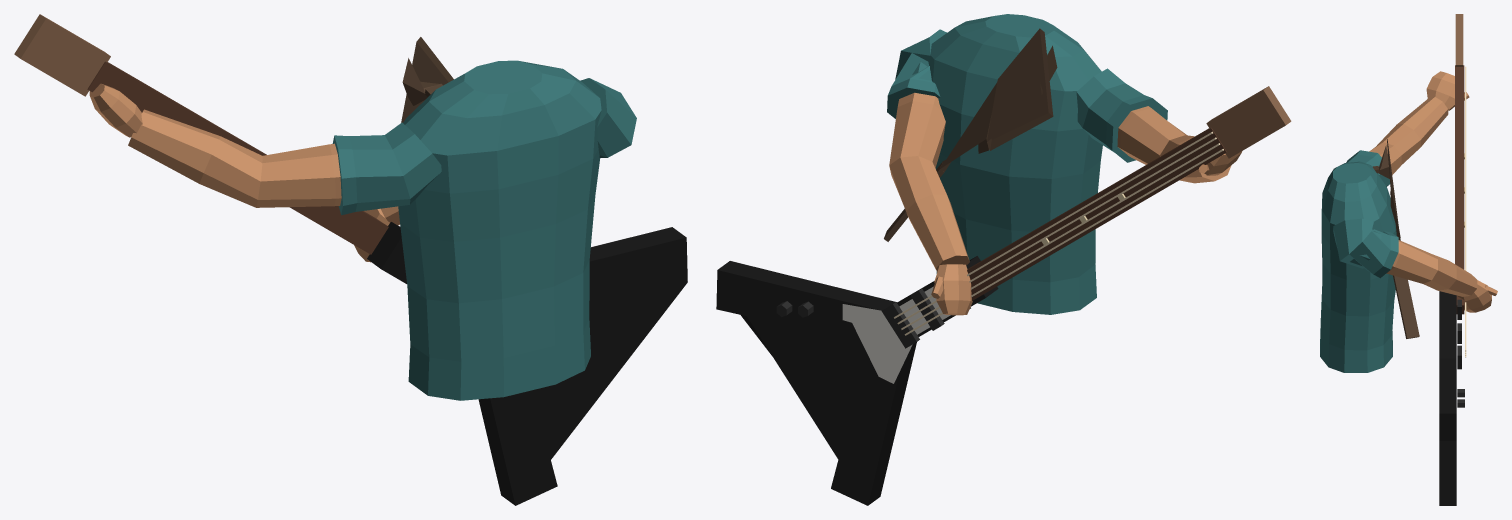
File: lwf_guitarist_male_flyingv_kit_v2.glb
3 renders of one model, left to right at view 1: azimuth 30°, elevation 25°; view 2: azimuth 150°, elevation 25°; view 3: azimuth 270°, elevation 25°, orthographic. The views are drawn at different scales.
Visible parts, largest first — view 1: LWF_Guitarist_RightPlayingArm, LWF_Guitarist_FlyingVGuitar, LWF_Guitarist_LeftPlayingArm, LWF_Fitted_LeatherStrap; view 2: LWF_Guitarist_RightPlayingArm, LWF_Guitarist_FlyingVGuitar, LWF_Guitarist_LeftPlayingArm, LWF_Fitted_LeatherStrap; view 3: LWF_Guitarist_RightPlayingArm, LWF_Guitarist_FlyingVGuitar, LWF_Guitarist_LeftPlayingArm, LWF_Fitted_LeatherStrap.
Part boxes in pixels (x1=…): LWF_Guitarist_RightPlayingArm: x1=354, y1=60, x2=636, y2=400; LWF_Guitarist_FlyingVGuitar: x1=14, y1=14, x2=687, y2=505; LWF_Guitarist_LeftPlayingArm: x1=89, y1=83, x2=441, y2=215; LWF_Fitted_LeatherStrap: x1=401, y1=37, x2=453, y2=122; LWF_Guitarist_RightPlayingArm: x1=887, y1=14, x2=1102, y2=315; LWF_Guitarist_FlyingVGuitar: x1=716, y1=86, x2=1291, y2=505; LWF_Guitarist_LeftPlayingArm: x1=1076, y1=68, x2=1242, y2=183; LWF_Fitted_LeatherStrap: x1=884, y1=28, x2=1057, y2=241; LWF_Guitarist_RightPlayingArm: x1=1320, y1=161, x2=1497, y2=372; LWF_Guitarist_FlyingVGuitar: x1=1439, y1=14, x2=1466, y2=505; LWF_Guitarist_LeftPlayingArm: x1=1346, y1=71, x2=1469, y2=186; LWF_Fitted_LeatherStrap: x1=1373, y1=139, x2=1419, y2=338.
Bounding box in the file's own units: 1.18 × 1.02 × 0.4661.
Materials: 3 (3 with a texture image).
